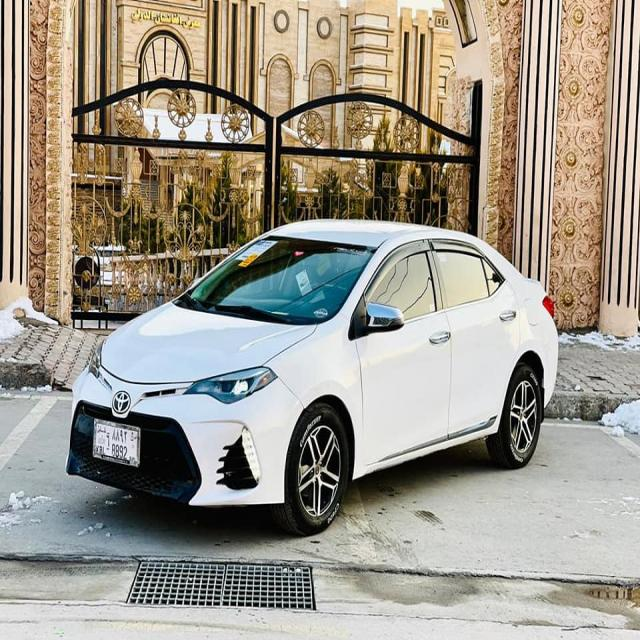Plate: (90, 415, 142, 470)
